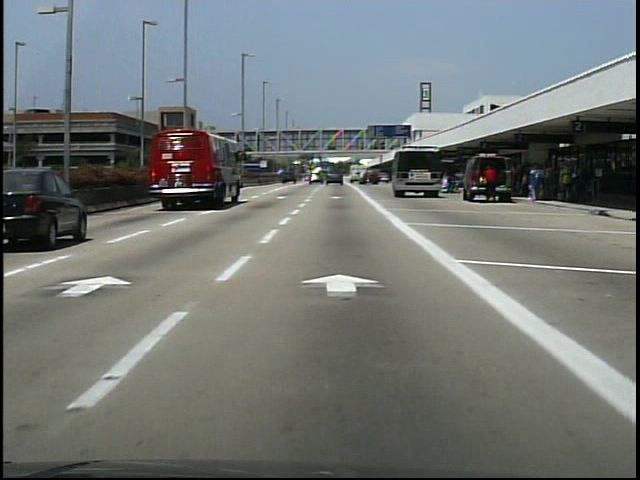person: (484, 164, 500, 205), (439, 174, 457, 197)
